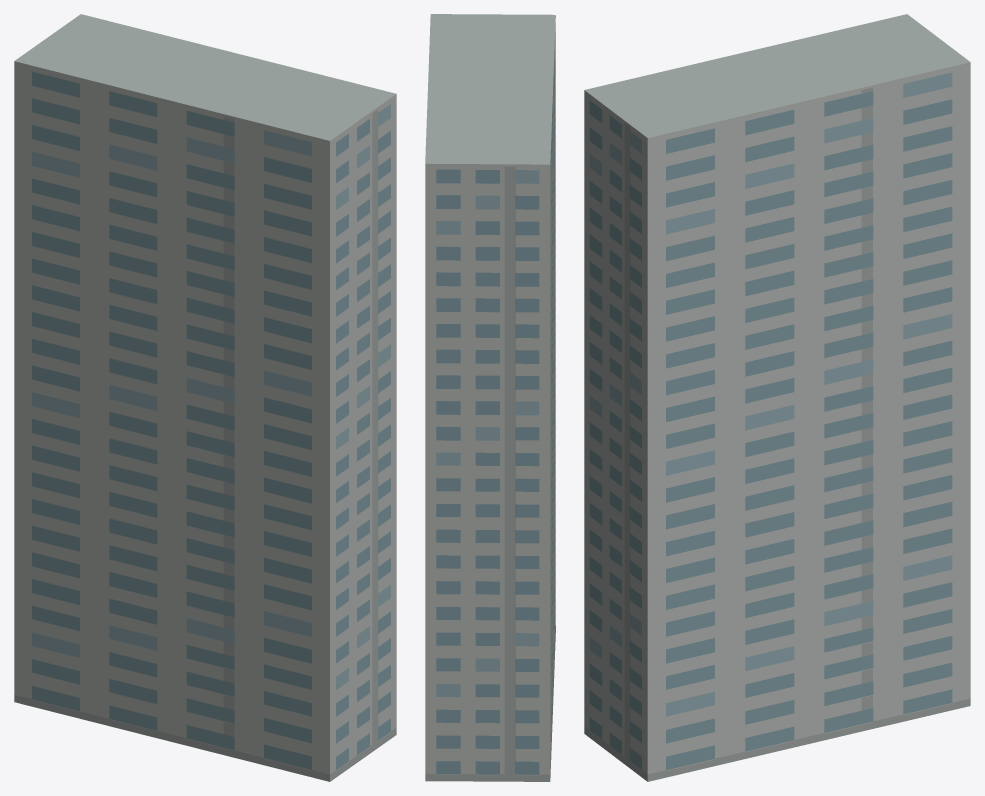
Rendered from residential-2fddc597-22e2-4b95-9923-9eb1b227e95b.glb.
The picture shows the model from 3 angles, left to right: view 1: azimuth 30°, elevation 25°; view 2: azimuth 150°, elevation 25°; view 3: azimuth 270°, elevation 25°; orthographic projection. The views are drawn at different scales.
Visible parts, largest first — view 1: residential-2fddc597-22e2-4b95-9923-9eb1b227e95b.tmp; view 2: residential-2fddc597-22e2-4b95-9923-9eb1b227e95b.tmp; view 3: residential-2fddc597-22e2-4b95-9923-9eb1b227e95b.tmp.
Part boxes in pixels (x1,y1,x2,y2): residential-2fddc597-22e2-4b95-9923-9eb1b227e95b.tmp: (14,14,396,781); residential-2fddc597-22e2-4b95-9923-9eb1b227e95b.tmp: (425,14,555,781); residential-2fddc597-22e2-4b95-9923-9eb1b227e95b.tmp: (584,14,970,781).
Bounding box in the file's own units: 27.73 × 67 × 36.46.
